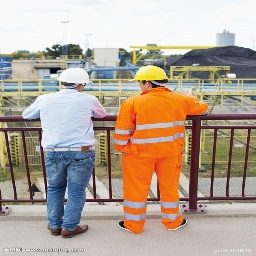helmet: (46, 66, 106, 90), (125, 65, 177, 87)
no-vest: (21, 95, 112, 158)
person: (106, 62, 224, 245), (22, 64, 113, 243)
vest: (115, 94, 212, 177)
